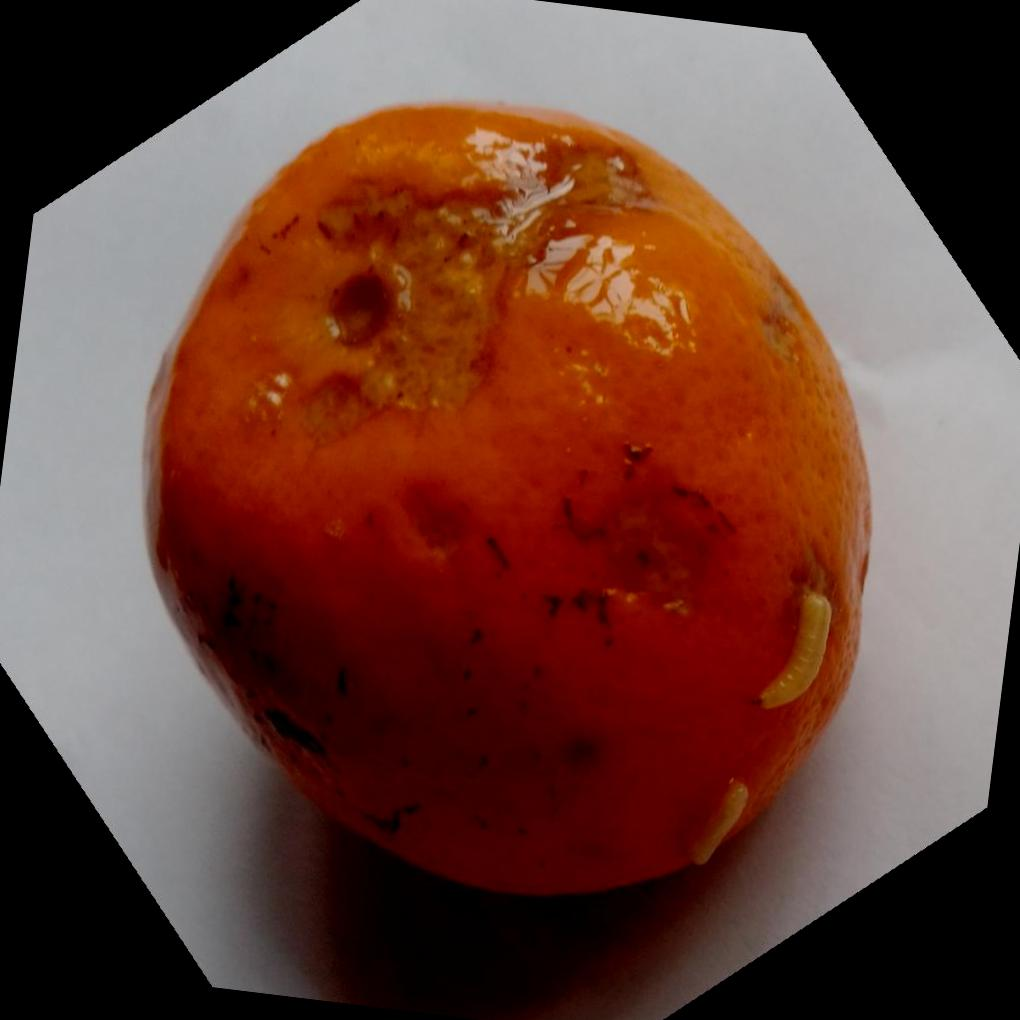FreshOrange: (141, 96, 874, 895)
